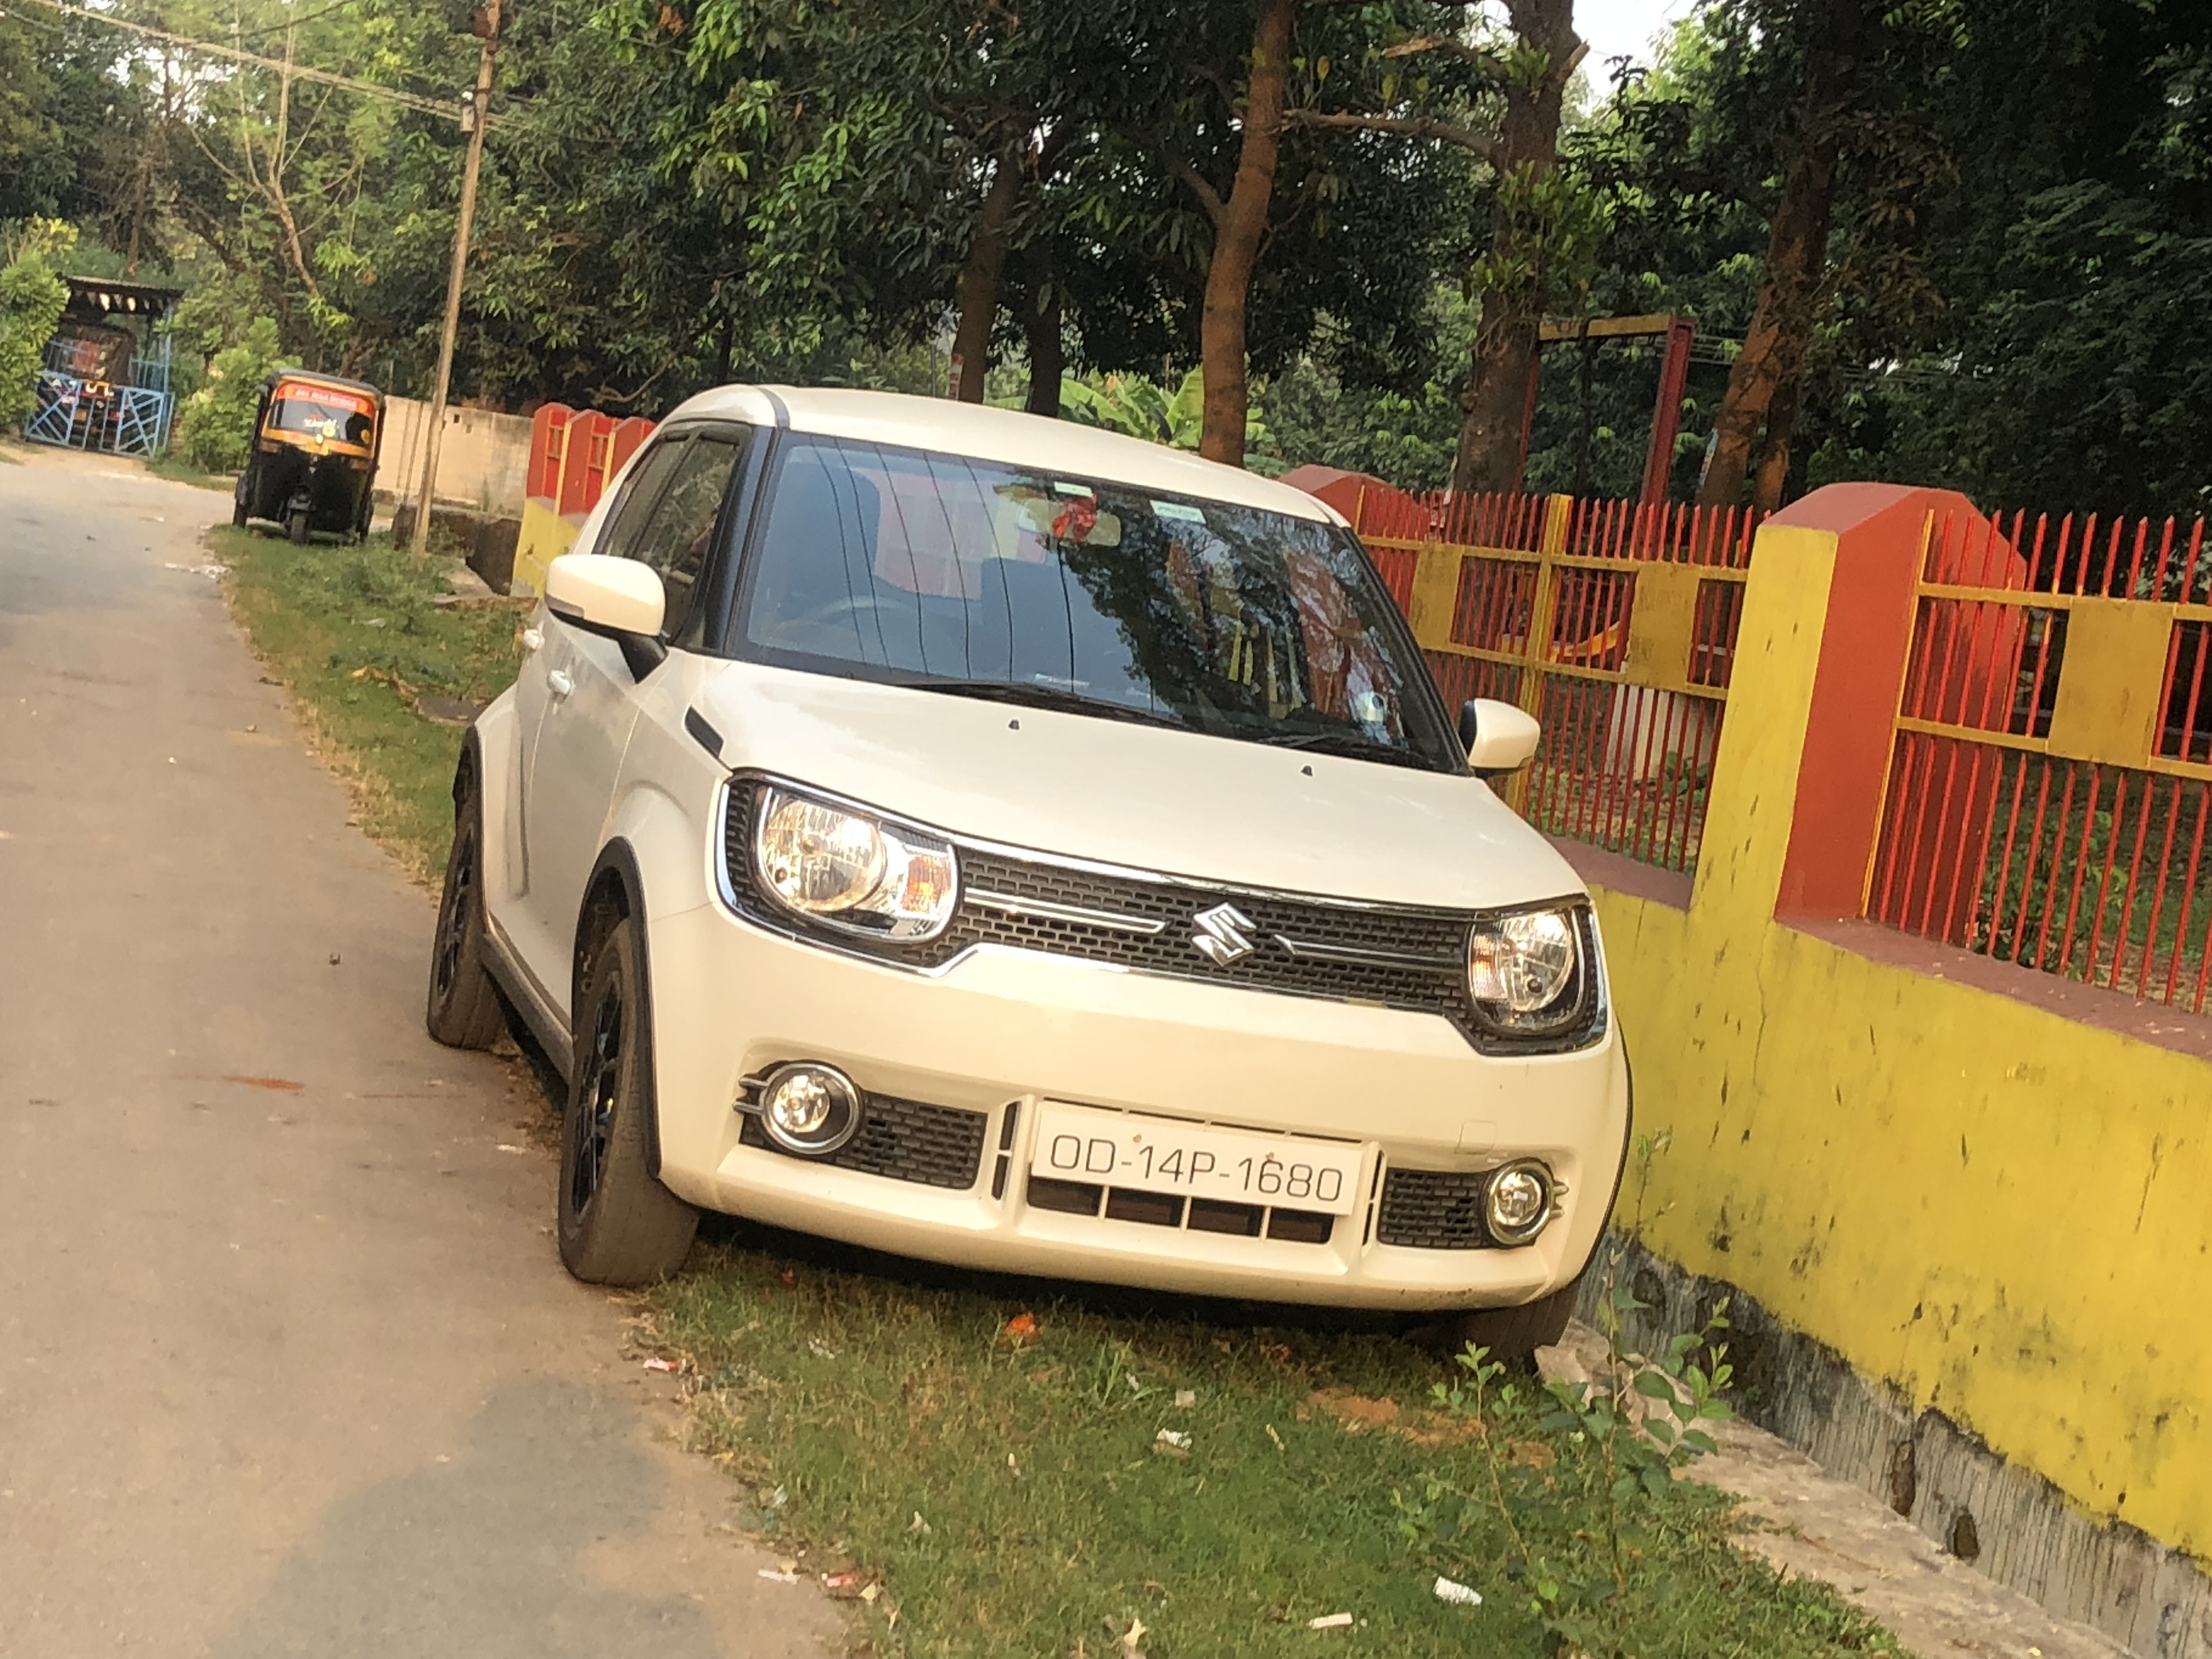licenseplate: (1031, 1089, 1387, 1241)
